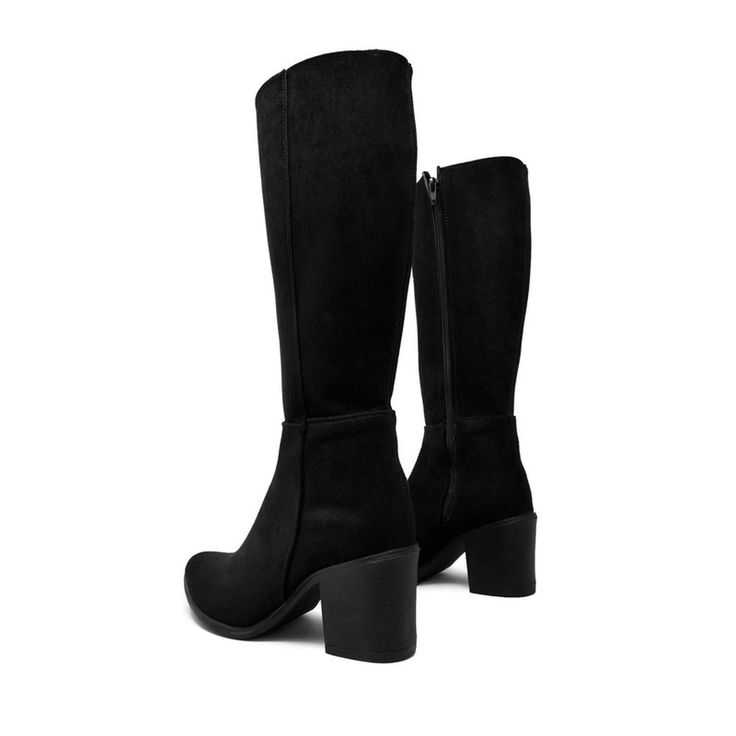gamuza: (185, 50, 537, 630)
